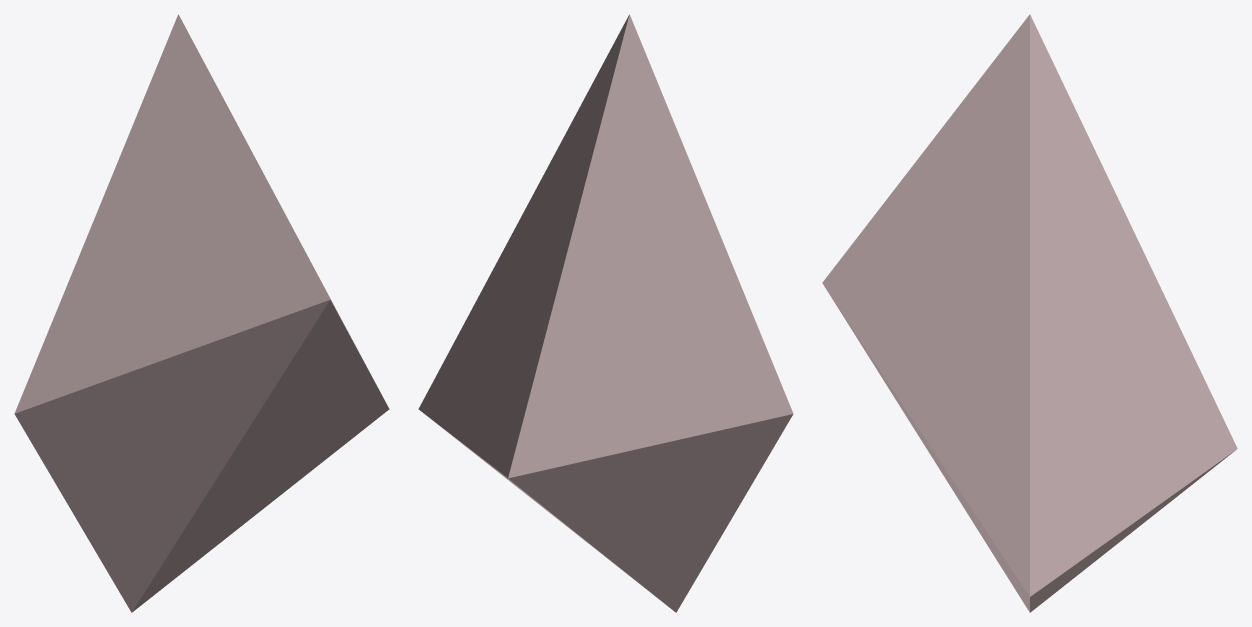
3 renders of one model, left to right at view 1: azimuth 30°, elevation 25°; view 2: azimuth 150°, elevation 25°; view 3: azimuth 270°, elevation 25°, orthographic. The views are drawn at different scales.
Visible parts, largest first — view 1: P_003; view 2: P_003; view 3: P_003.
Part boxes in pixels (x1,y1,x2,y2): P_003: [14, 14, 389, 612]; P_003: [418, 14, 793, 612]; P_003: [822, 14, 1237, 612].
Bounding box in the file's own units: 205 × 307 × 186.
